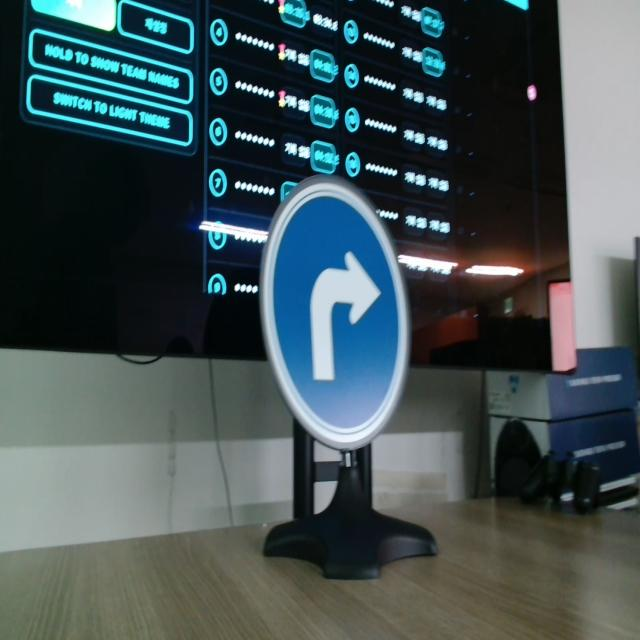right_dierection: (260, 178, 413, 450)
